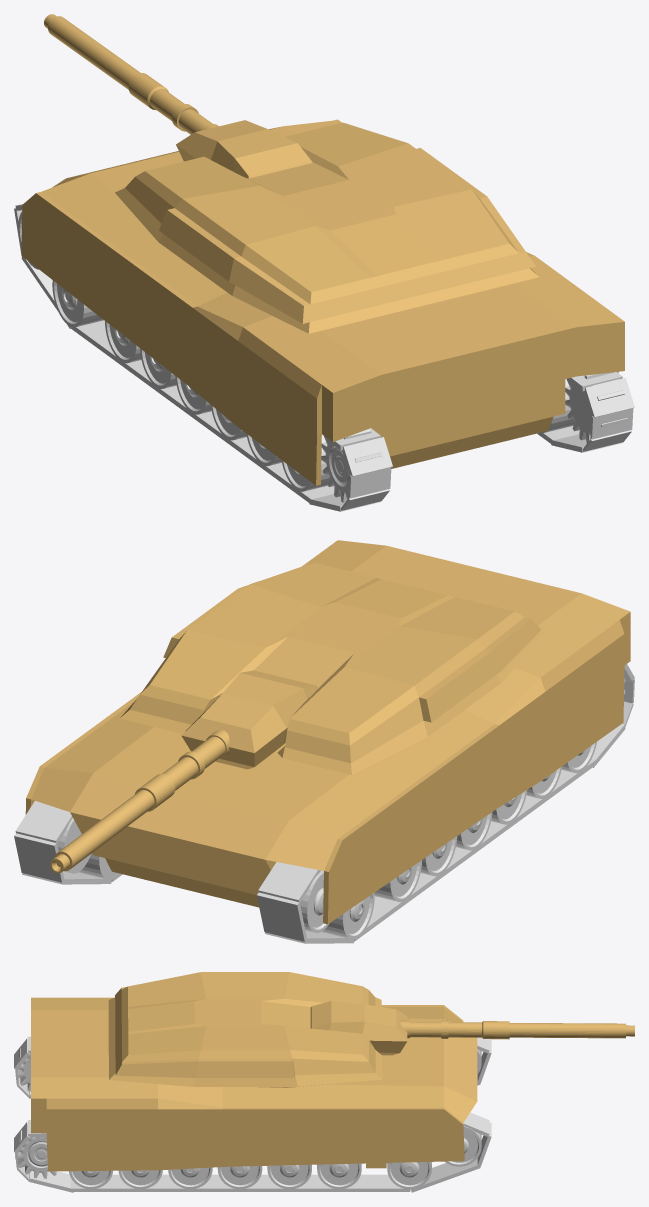
The model's file is Tank.fbx.
3 views of the same model, one above another, from view 1: azimuth 30°, elevation 25°; view 2: azimuth 150°, elevation 25°; view 3: azimuth 270°, elevation 25° (orthographic). The views are drawn at different scales.
Visible parts, largest first — view 1: Body, Head, Barrel base, Cog Right, Cog left, Cube.014, Cube.009, Cylinder.017, Cube.022, Cube.013, Cube.010, Cylinder.018 (+4 smaller); view 2: Body, Head, Barrel base, Cube.020, Cube.019, Cube.003, Cube.004, Cylinder.017, Cylinder.016, Cylinder.018, Cube.022, Cylinder.019 (+7 smaller); view 3: Body, Head, Barrel base, Cog Right, Cube.001, Cylinder, Cylinder.002, Cylinder.003, Cylinder.001, Cube.005, Cube, Cylinder.004 (+8 smaller).
Part boxes in pixels (<box>): Body: <box>21,119,624,485</box>; Head: <box>115,122,539,333</box>; Barrel base: <box>44,14,312,178</box>; Cog Right: <box>565,372,628,443</box>; Cog left: <box>321,429,382,502</box>; Cube.014: <box>342,437,392,476</box>; Cube.009: <box>584,378,634,417</box>; Cylinder.017: <box>52,280,103,327</box>; Cube.022: <box>71,320,145,379</box>; Cube.013: <box>348,467,391,498</box>; Cube.010: <box>590,408,633,439</box>; Cylinder.018: <box>105,321,141,363</box>; Body: <box>25,540,630,924</box>; Head: <box>120,563,544,774</box>; Barrel base: <box>50,670,317,873</box>; Cube.020: <box>256,892,306,941</box>; Cube.019: <box>258,862,320,902</box>; Cube.003: <box>14,833,64,882</box>; Cube.004: <box>15,801,72,843</box>; Cylinder.017: <box>321,893,374,939</box>; Cylinder.016: <box>300,870,329,932</box>; Cylinder.018: <box>374,860,421,902</box>; Cube.022: <box>354,883,425,941</box>; Cylinder.019: <box>420,836,457,876</box>; Body: <box>31,997,477,1171</box>; Head: <box>108,972,382,1087</box>; Barrel base: <box>310,1001,634,1055</box>; Cog Right: <box>15,1125,56,1178</box>; Cube.001: <box>311,1174,410,1191</box>; Cylinder: <box>387,1162,431,1189</box>; Cylinder.002: <box>317,1163,361,1189</box>; Cylinder.003: <box>267,1164,311,1189</box>; Cylinder.001: <box>217,1166,262,1189</box>; Cube.005: <box>115,1174,213,1191</box>; Cube: <box>214,1174,313,1191</box>; Cylinder.004: <box>168,1167,212,1189</box>.
Size of the model in its own units: 496 by 294 by 1250.
